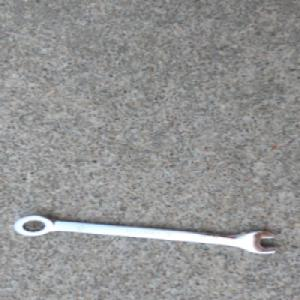Wrench: (12, 213, 282, 255)
